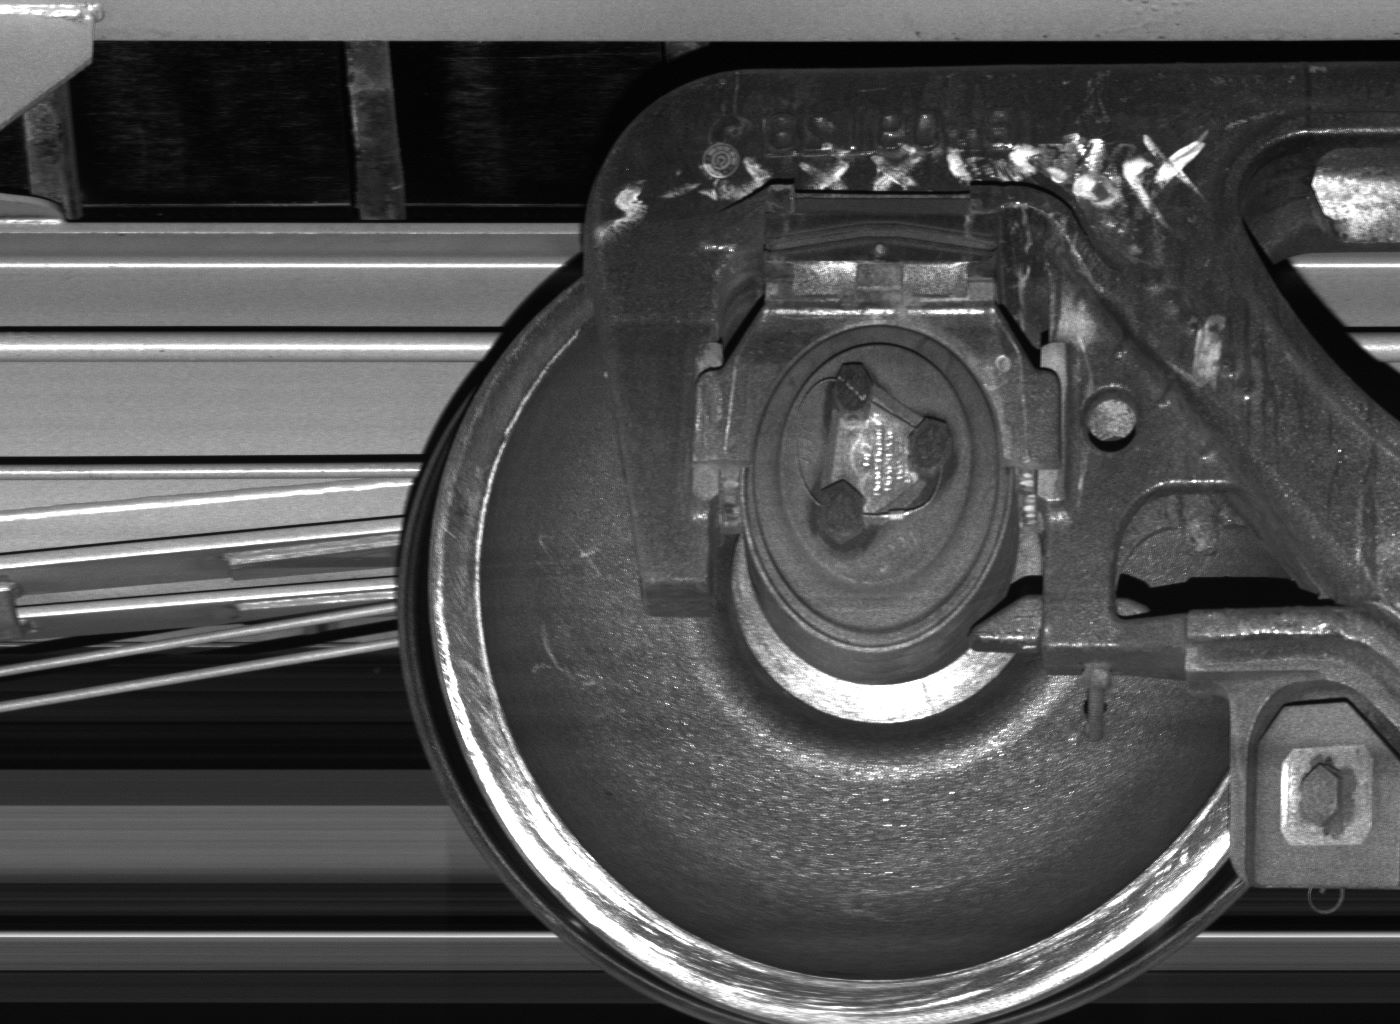normal: (1229, 680, 1400, 886)
